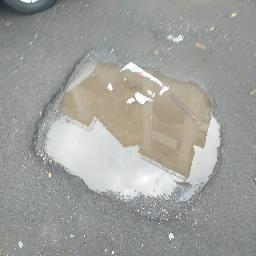water accumulation: (43, 60, 222, 203)
